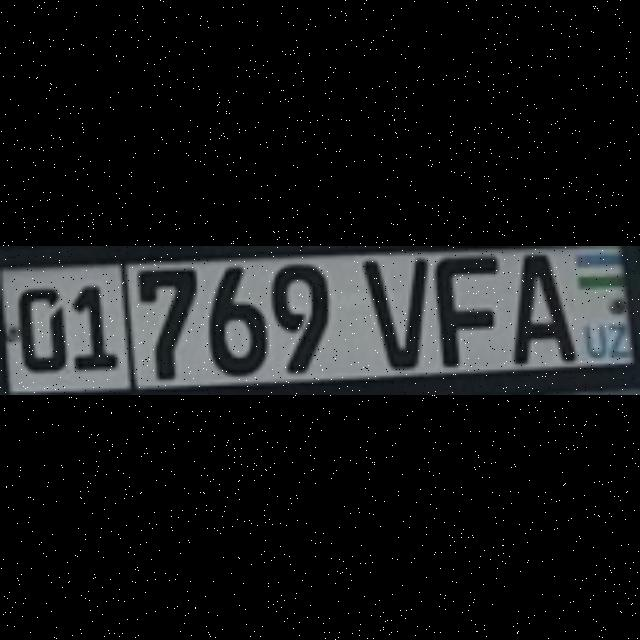0: (12, 283, 62, 367)
1: (68, 279, 115, 366)
6: (204, 261, 262, 373)
7: (134, 264, 196, 376)
9: (266, 258, 324, 370)
A: (509, 248, 575, 360)
F: (431, 251, 497, 363)
V: (359, 251, 425, 363)
